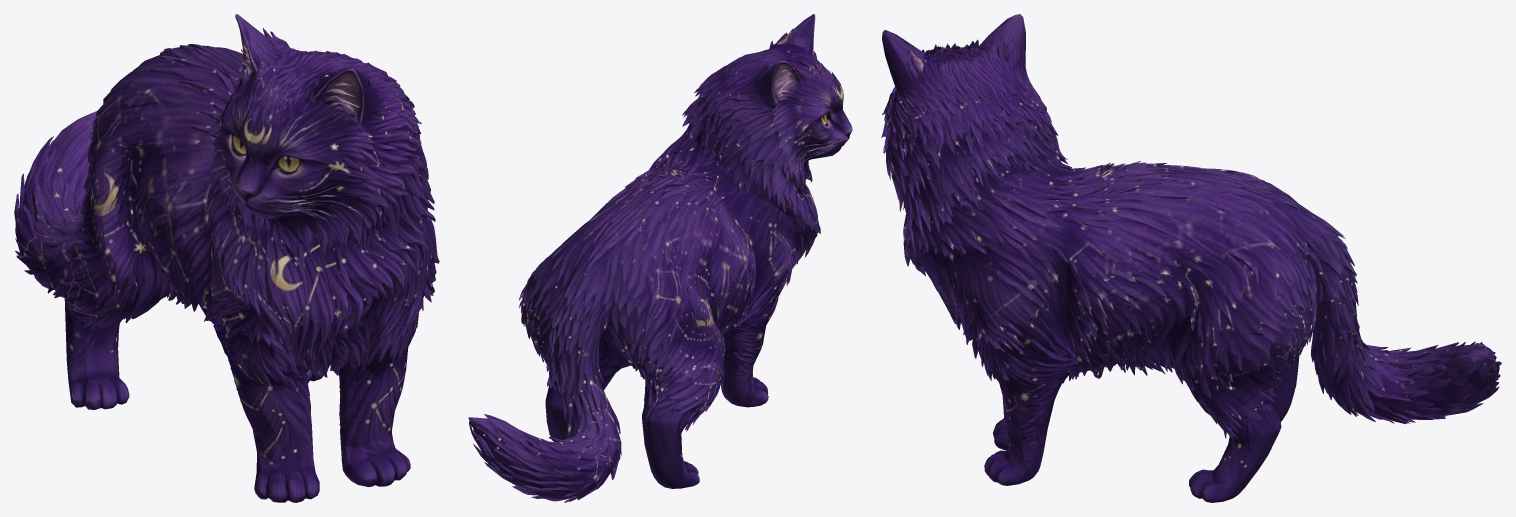
Rendered from cat-roof.glb.
3 views of the same model, side by side, from view 1: azimuth 30°, elevation 25°; view 2: azimuth 150°, elevation 25°; view 3: azimuth 270°, elevation 25° (orthographic). The views are drawn at different scales.
Parts seen in each view (by area): view 1: output_unwrapped; view 2: output_unwrapped; view 3: output_unwrapped.
Part boxes in pixels (left/top/right/bottom): output_unwrapped: left=14, top=14, right=439, bottom=502; output_unwrapped: left=468, top=14, right=852, bottom=502; output_unwrapped: left=881, top=14, right=1501, bottom=502.
Size of the model in its own units: 0.7678 by 1.37 by 1.89.
1 material, 1 textured.
